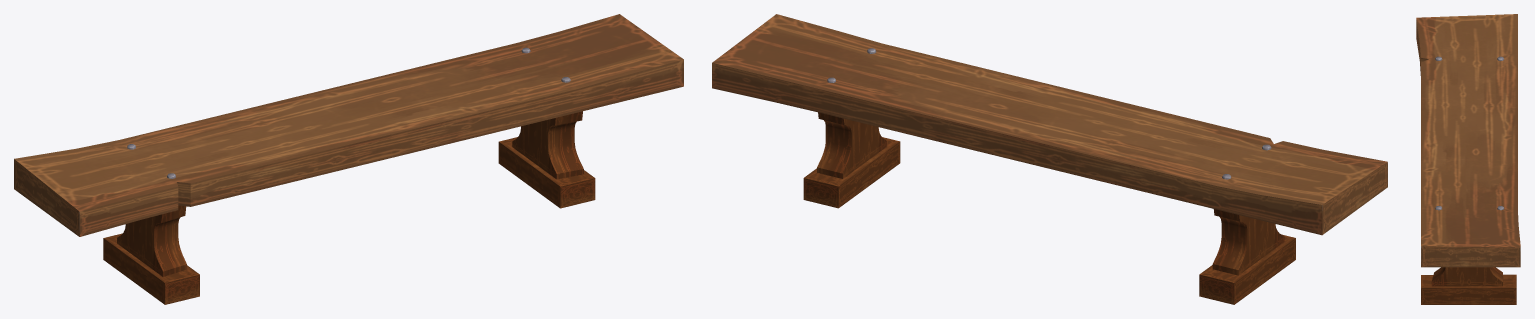
Rendered from bench.glb.
3 renders of one model, left to right at view 1: azimuth 30°, elevation 25°; view 2: azimuth 150°, elevation 25°; view 3: azimuth 270°, elevation 25°, orthographic. The views are drawn at different scales.
Visible parts, largest first — view 1: Bench; view 2: Bench; view 3: Bench.
Part boxes in pixels (x1,y1,x2,y2): Bench: (14,14,683,304); Bench: (712,14,1387,304); Bench: (1416,14,1520,304).
Bounding box in the file's own units: 2.78 × 0.5332 × 0.5343.
Materials: 2 (2 with a texture image).
